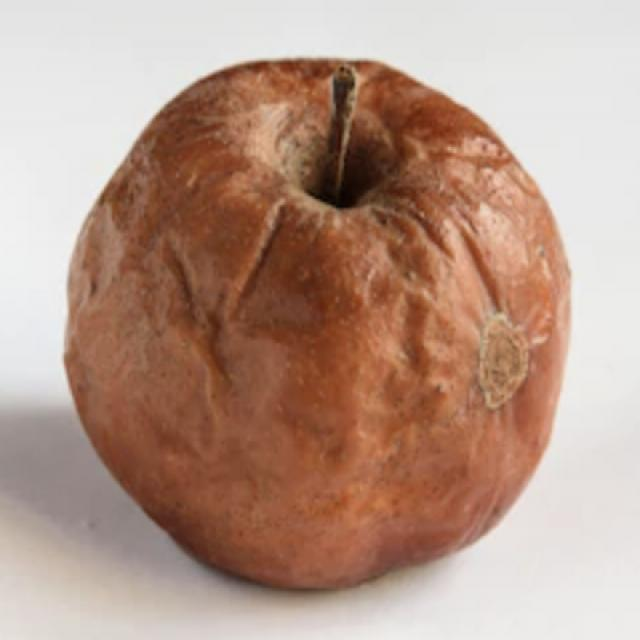Rotten: (40, 45, 592, 583)
